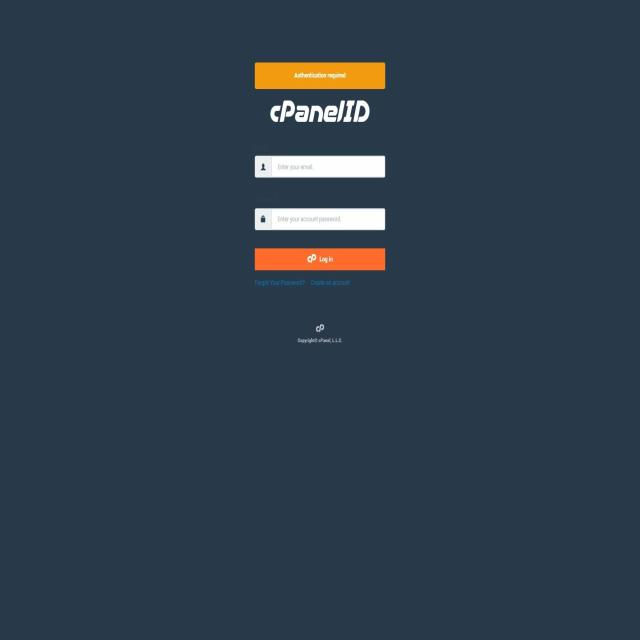button: (255, 62, 385, 90), (254, 247, 386, 271)
input: (254, 155, 386, 179), (256, 207, 385, 231)
